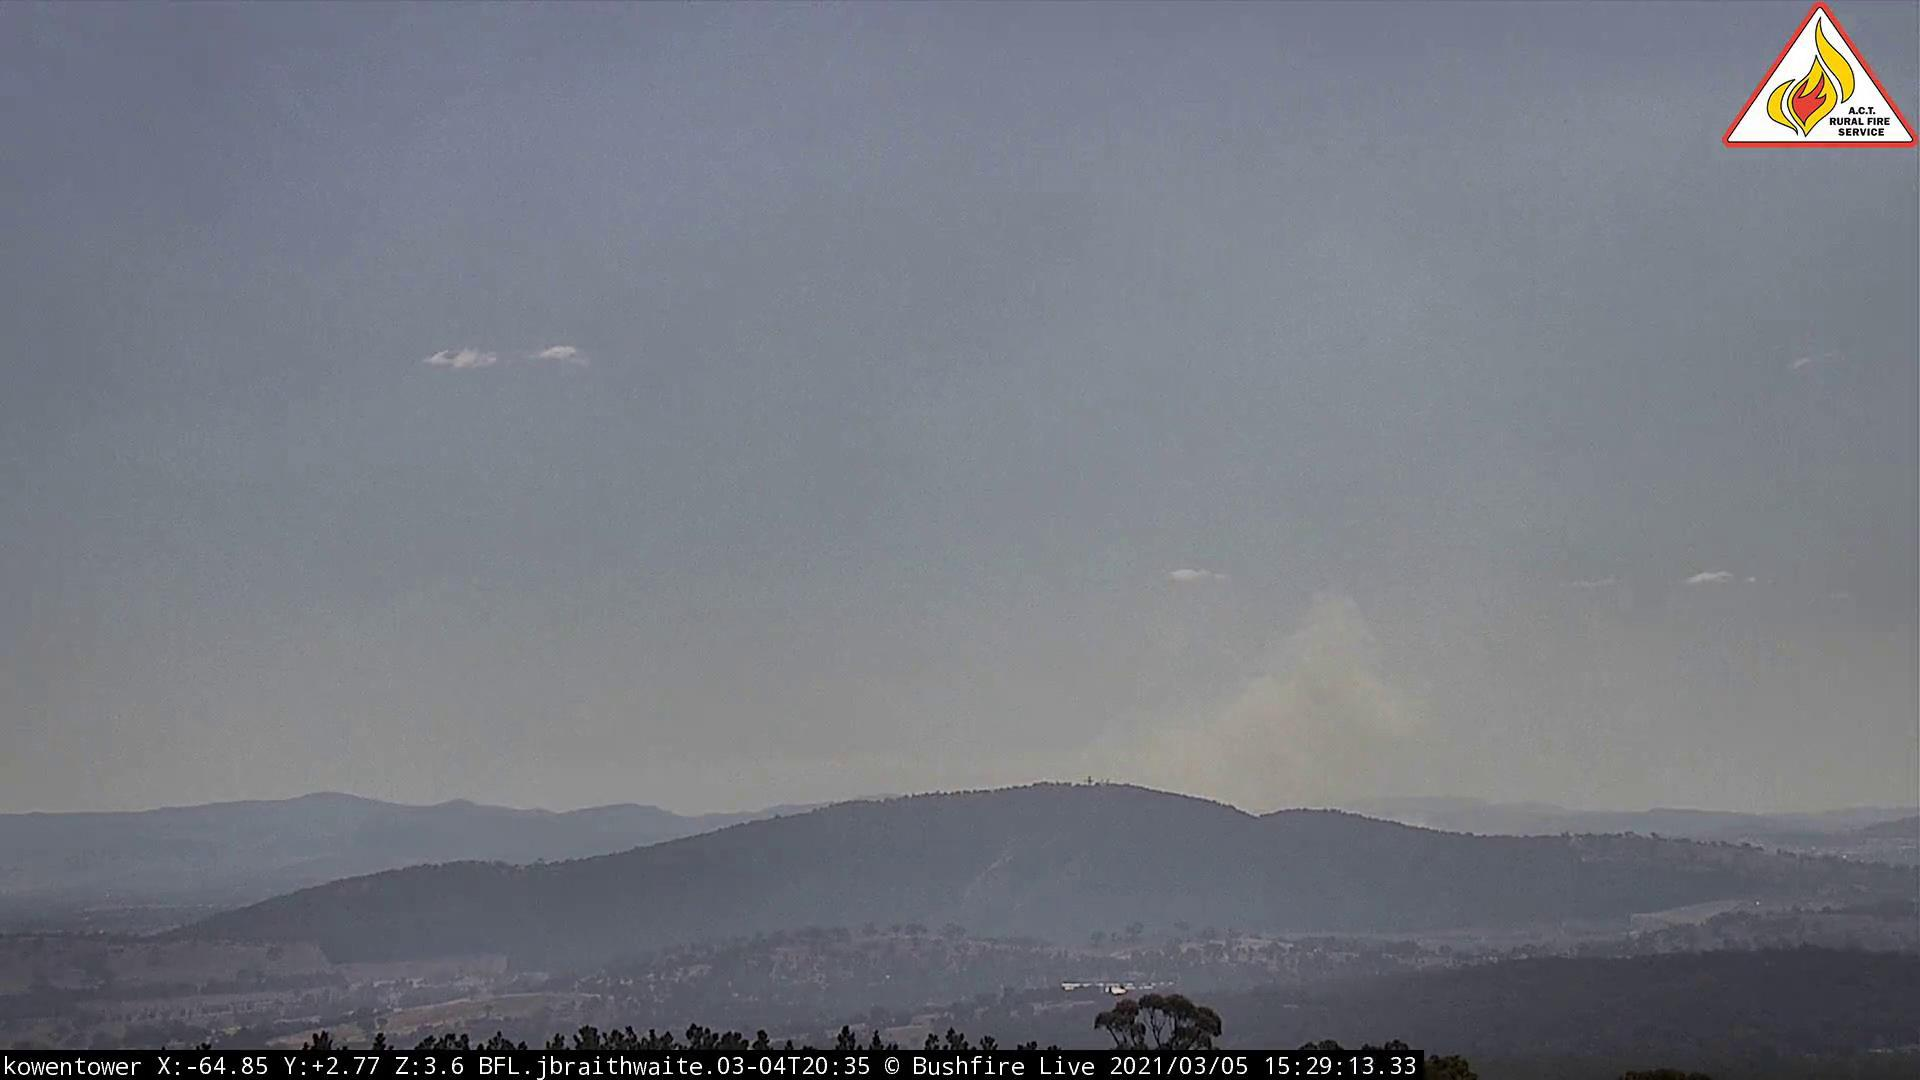Smoke: (1025, 579, 1455, 831)
